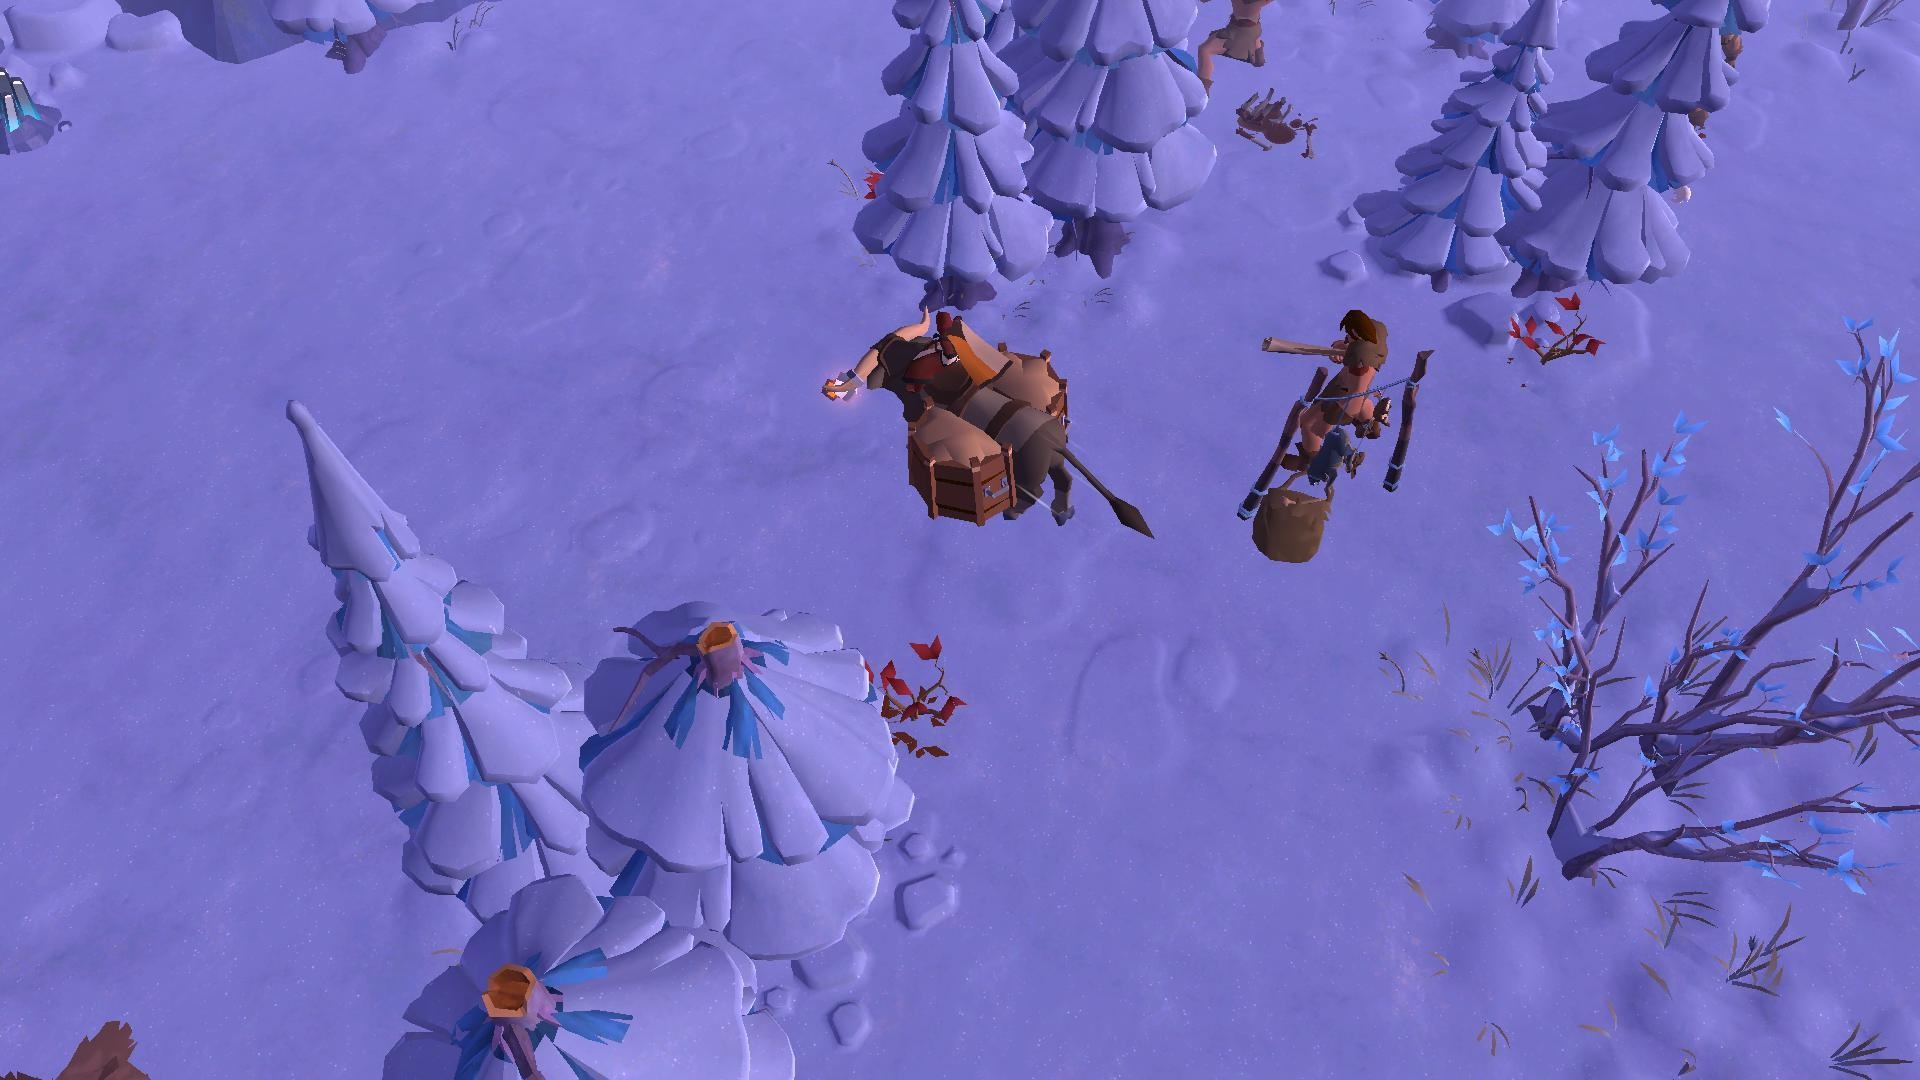enemy_factionKeeper: (1263, 309, 1387, 465)
